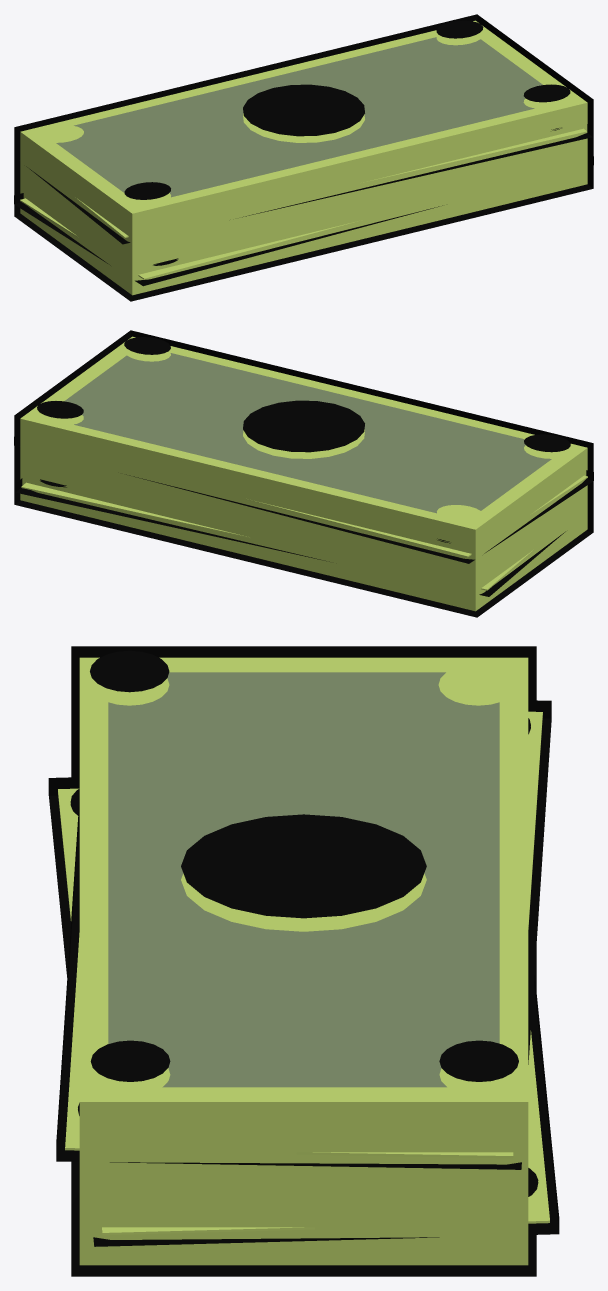
The model's file is money.fbx.
3 views of the same model, one above another, from view 1: azimuth 30°, elevation 25°; view 2: azimuth 150°, elevation 25°; view 3: azimuth 270°, elevation 25° (orthographic). The views are drawn at different scales.
Parts seen in each view (by area): view 1: Money - Stack Small B Outlined; view 2: Money - Stack Small B Outlined; view 3: Money - Stack Small B Outlined.
Boxes of the visible parts, x1,y1,x2,y2 form: Money - Stack Small B Outlined: (14,14,593,301); Money - Stack Small B Outlined: (14,330,593,617); Money - Stack Small B Outlined: (48,646,559,1276).
Bounding box in the file's own units: 44.75 × 8.59 × 20.81.
